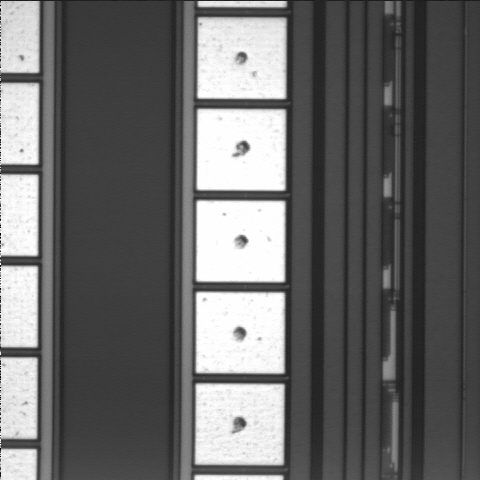pad: (197, 109, 286, 191), (196, 200, 285, 282), (197, 18, 286, 99), (196, 292, 285, 373), (195, 384, 284, 465)
